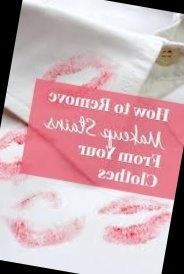lipstick: (0, 199, 89, 264), (94, 190, 171, 255), (39, 44, 107, 90), (9, 185, 70, 230), (76, 70, 116, 95), (0, 124, 27, 156), (0, 159, 17, 183)
